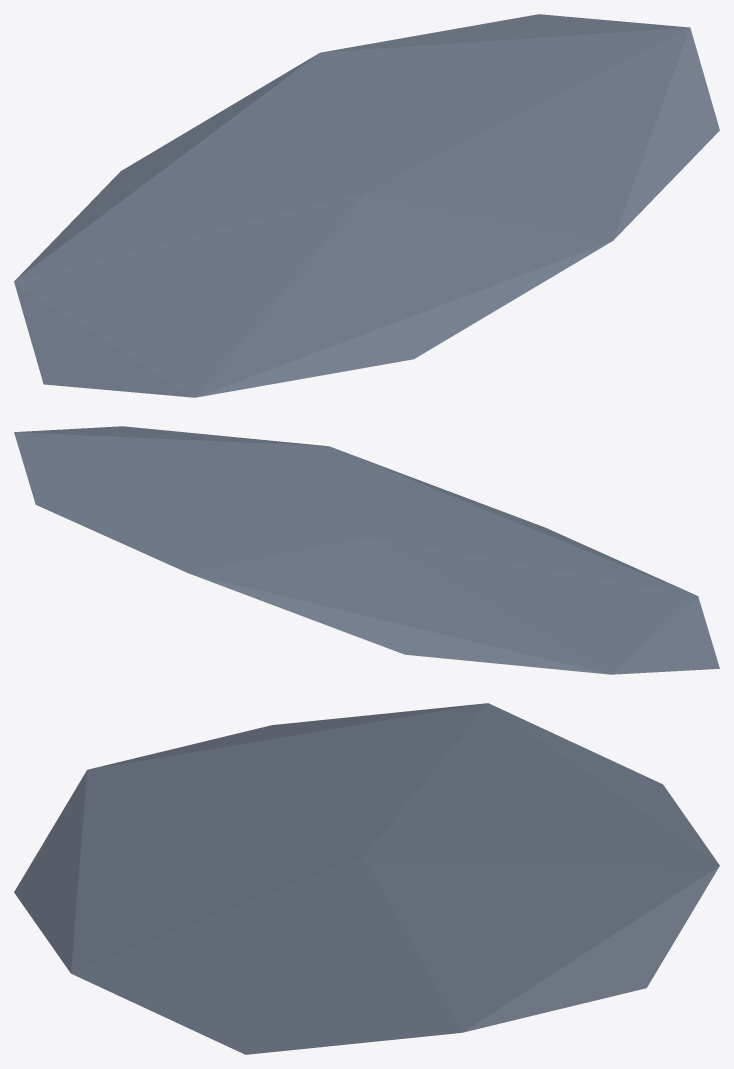
The model's file is EXTG_SouthRoad_00.glb.
The picture shows the model from 3 angles, top to bottom: view 1: azimuth 30°, elevation 25°; view 2: azimuth 150°, elevation 25°; view 3: azimuth 270°, elevation 25°; orthographic projection. The views are drawn at different scales.
Parts seen in each view (by area): view 1: EXTG_SouthRoad_00; view 2: EXTG_SouthRoad_00; view 3: EXTG_SouthRoad_00.
Boxes of the visible parts, bbox=[...] form: EXTG_SouthRoad_00: bbox=[14, 14, 719, 397]; EXTG_SouthRoad_00: bbox=[14, 426, 719, 674]; EXTG_SouthRoad_00: bbox=[14, 703, 719, 1054].
Bounding box in the file's own units: 1.77 × 0.3214 × 1.05.
